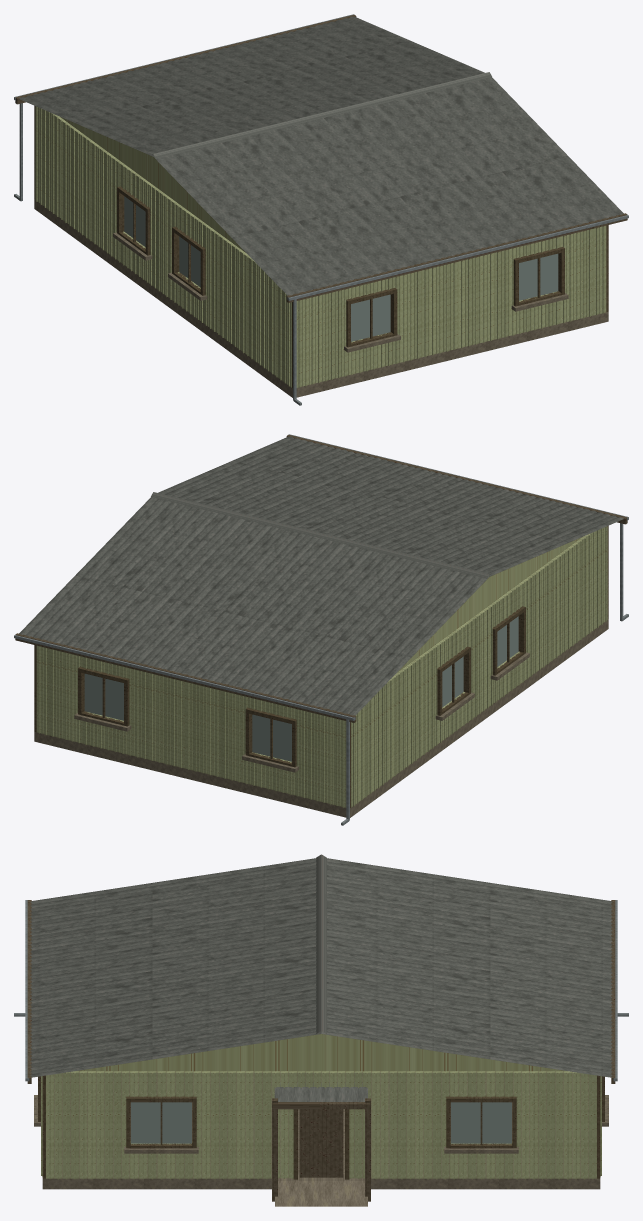
The picture shows the model from 3 angles, top to bottom: view 1: azimuth 30°, elevation 25°; view 2: azimuth 150°, elevation 25°; view 3: azimuth 270°, elevation 25°; orthographic projection. The views are drawn at different scales.
Visible parts, largest first — view 1: H07_CHAPAS_ONDULADAS, H07_MATA_JUNTAS, H07_LATERAIS, H07_FUNDOS, H07_FUNDACAO, H07_VIDROS_RECUADOS, H07_CAIXILHOS, H07_OITOES, H07_BEIRAIS, H07_CUMEEIRA, H07_CALHA, H07_PEITORIS (+1 smaller); view 2: H07_CHAPAS_ONDULADAS, H07_MATA_JUNTAS, H07_LATERAIS, H07_FUNDOS, H07_FUNDACAO, H07_VIDROS_RECUADOS, H07_CAIXILHOS, H07_OITOES, H07_BEIRAIS, H07_CUMEEIRA, H07_CALHA, H07_PEITORIS (+1 smaller); view 3: H07_CHAPAS_ONDULADAS, H07_FACHADA, H07_MATA_JUNTAS, H07_FUNDACAO, H07_OITOES, H07_VIDROS_RECUADOS, H07_PORTA_FOLHA, H07_CAIXILHOS, H07_RAMPA, H07_CUMEEIRA, H07_BEIRAIS, H07_ALPENDRE_COBERTURA (+6 smaller).
Part boxes in pixels (x1,y1,x2,y2): H07_CHAPAS_ONDULADAS: (19,16,623,295); H07_MATA_JUNTAS: (36,106,604,387); H07_LATERAIS: (296,225,606,387); H07_FUNDOS: (35,106,291,387); H07_FUNDACAO: (34,199,608,397); H07_VIDROS_RECUADOS: (124,196,558,341); H07_CAIXILHOS: (117,186,564,347); H07_OITOES: (60,117,245,252); H07_BEIRAIS: (15,14,627,302); H07_CUMEEIRA: (152,72,491,158); H07_CALHA: (14,14,628,300); H07_PEITORIS: (113,232,568,352); H07_CHAPAS_ONDULADAS: (19,436,623,715); H07_MATA_JUNTAS: (38,526,606,807); H07_LATERAIS: (36,645,346,807); H07_FUNDOS: (351,526,607,807); H07_FUNDACAO: (34,619,608,817); H07_VIDROS_RECUADOS: (84,616,518,761); H07_CAIXILHOS: (78,606,525,767); H07_OITOES: (397,537,582,672); H07_BEIRAIS: (15,434,627,722); H07_CUMEEIRA: (151,492,490,578); H07_CALHA: (14,434,628,720); H07_PEITORIS: (74,652,529,772); H07_CHAPAS_ONDULADAS: (30,858,612,1077); H07_FACHADA: (46,1071,596,1178); H07_MATA_JUNTAS: (41,1072,601,1179); H07_FUNDACAO: (42,1071,600,1189); H07_OITOES: (75,1034,567,1071); H07_VIDROS_RECUADOS: (131,1102,511,1143); H07_PORTA_FOLHA: (299,1109,343,1177); H07_CAIXILHOS: (38,1076,604,1148); H07_RAMPA: (275,1181,367,1206); H07_CUMEEIRA: (316,854,326,1033); H07_BEIRAIS: (27,900,615,1083); H07_ALPENDRE_COBERTURA: (274,1082,367,1101).
Bounding box in the file's own units: 10.66 × 4.28 × 14.56.
8 materials, 7 textured.
